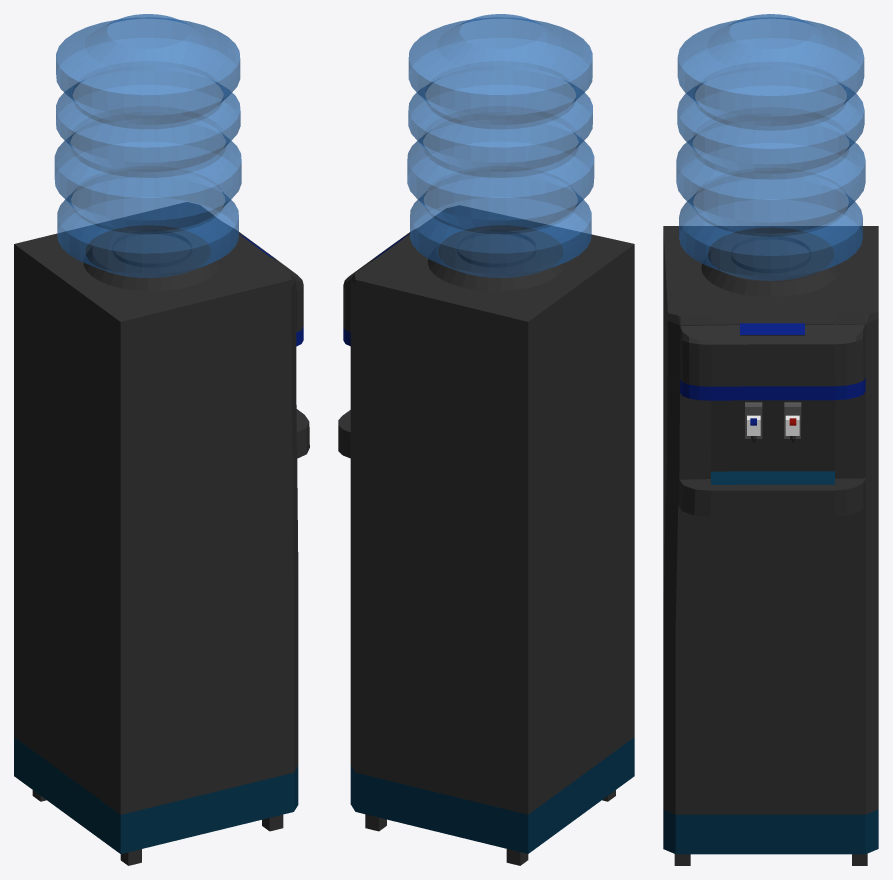
File: Bebedouro MD FBX.fbx
3 renders of one model, left to right at view 1: azimuth 30°, elevation 25°; view 2: azimuth 150°, elevation 25°; view 3: azimuth 270°, elevation 25°, orthographic.
Visible parts, largest first — view 1: Object_6; view 2: Object_6; view 3: Object_6.
Boxes of the visible parts, bbox=[...] form: Object_6: bbox=[14, 14, 309, 865]; Object_6: bbox=[338, 14, 634, 865]; Object_6: bbox=[663, 14, 878, 865].
Size of the model in its own units: 209 by 751 by 185.
